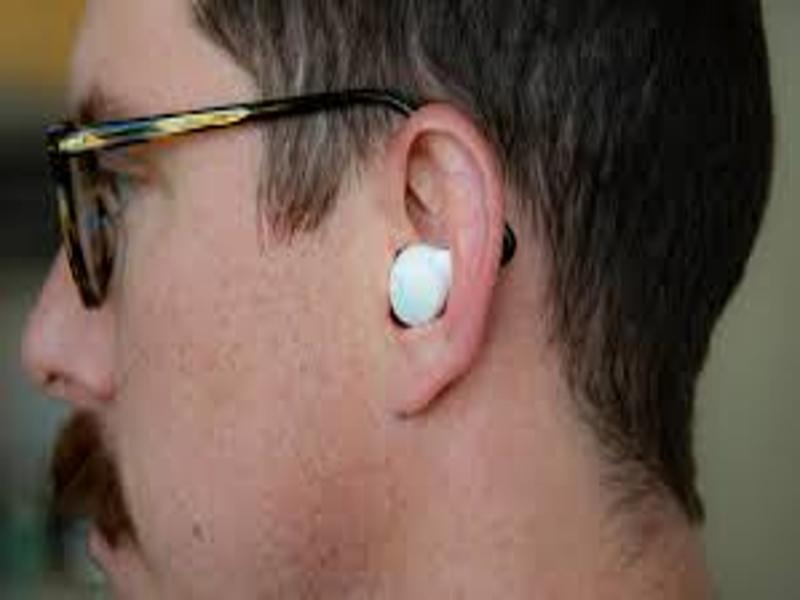headphone: (388, 239, 468, 328)
